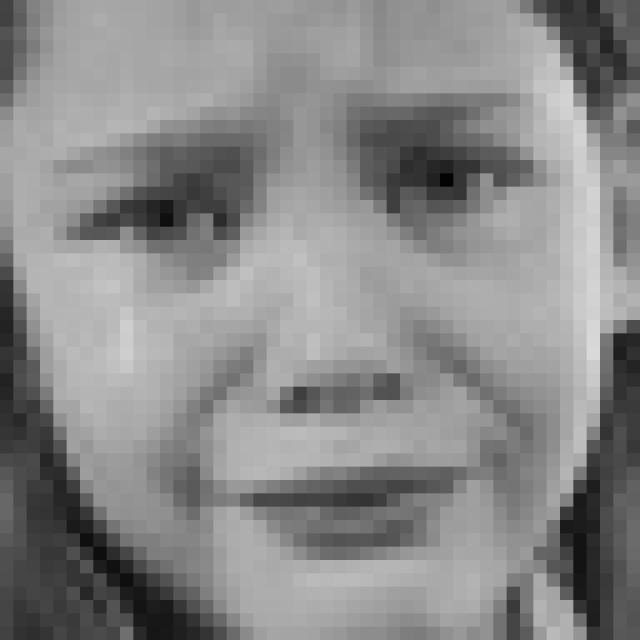sad: (56, 57, 574, 563)
